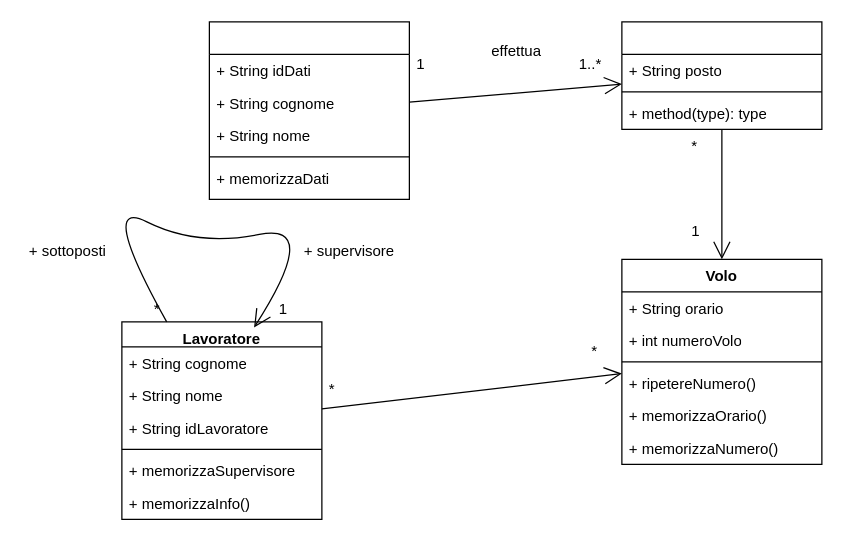
The diagram is 844 pixels wide and 545 high, and some of its shapes have lost their labels. The box of each missing label's shape, as (x1, y1, x2, y2) in pixels:
Passeggero: (208, 21, 409, 199)
Prenotazione: (621, 21, 822, 129)
